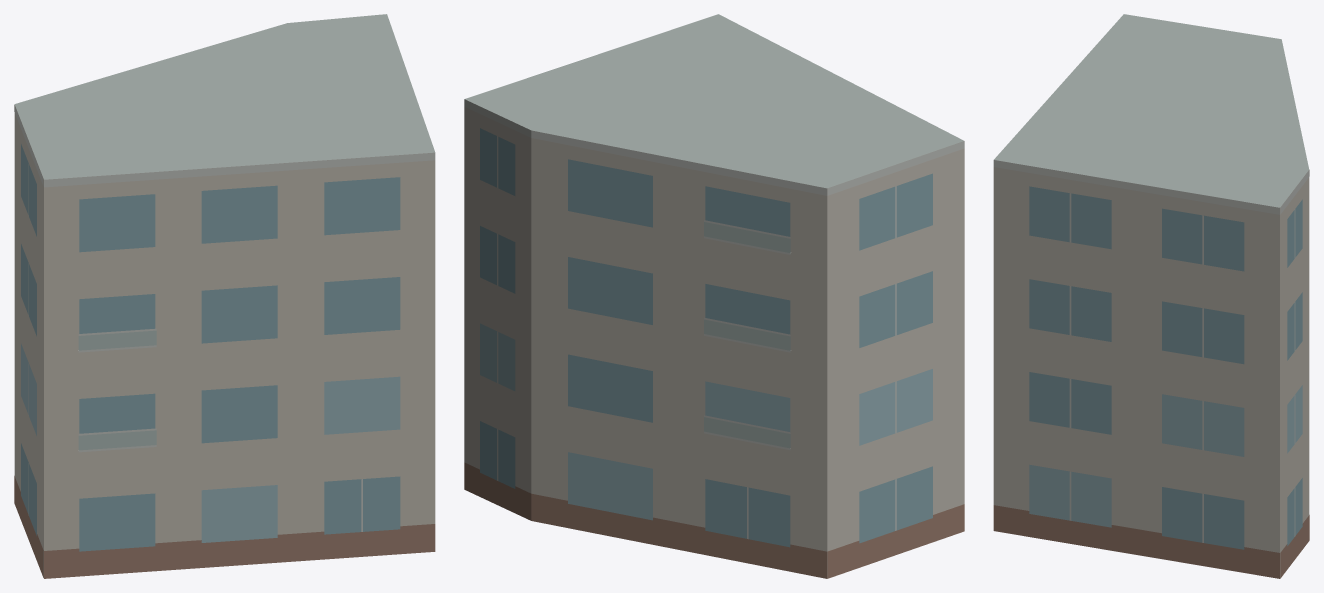
Rendered from survey-upis-32821724.glb.
The picture shows the model from 3 angles, left to right: view 1: azimuth 30°, elevation 25°; view 2: azimuth 150°, elevation 25°; view 3: azimuth 270°, elevation 25°; orthographic projection. The views are drawn at different scales.
Visible parts, largest first — view 1: survey-upis-32821724.tmp; view 2: survey-upis-32821724.tmp; view 3: survey-upis-32821724.tmp.
Boxes of the visible parts, left/top/right/bottom form: survey-upis-32821724.tmp: left=14, top=14, right=435, bottom=578; survey-upis-32821724.tmp: left=464, top=14, right=964, bottom=578; survey-upis-32821724.tmp: left=993, top=14, right=1309, bottom=578.
Bounding box in the file's own units: 14.18 × 12.65 × 9.76.
